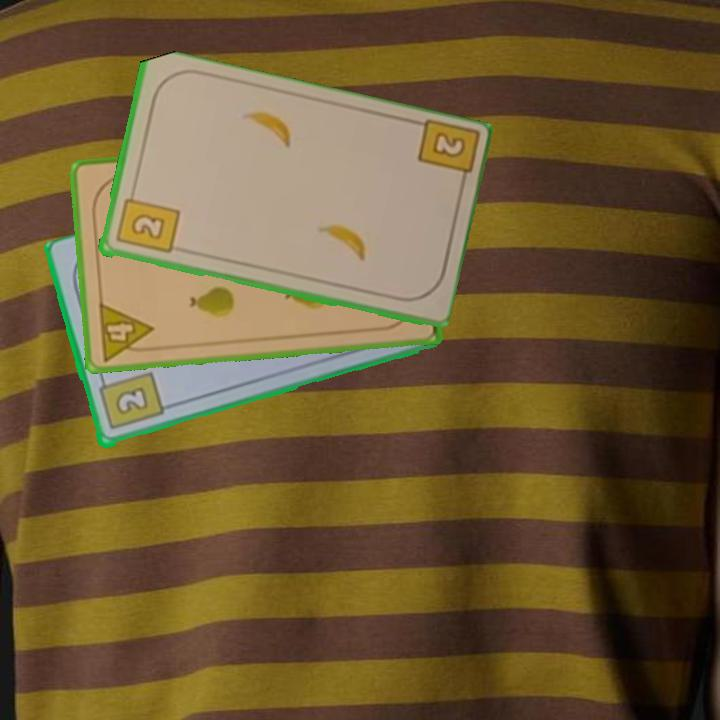2b: (112, 186, 182, 257), (413, 118, 478, 193), (94, 369, 166, 433)
4p: (95, 299, 157, 364)
